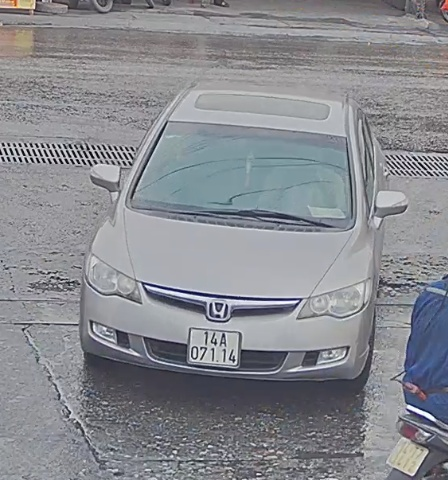vehicle plate: (183, 322, 242, 372)
